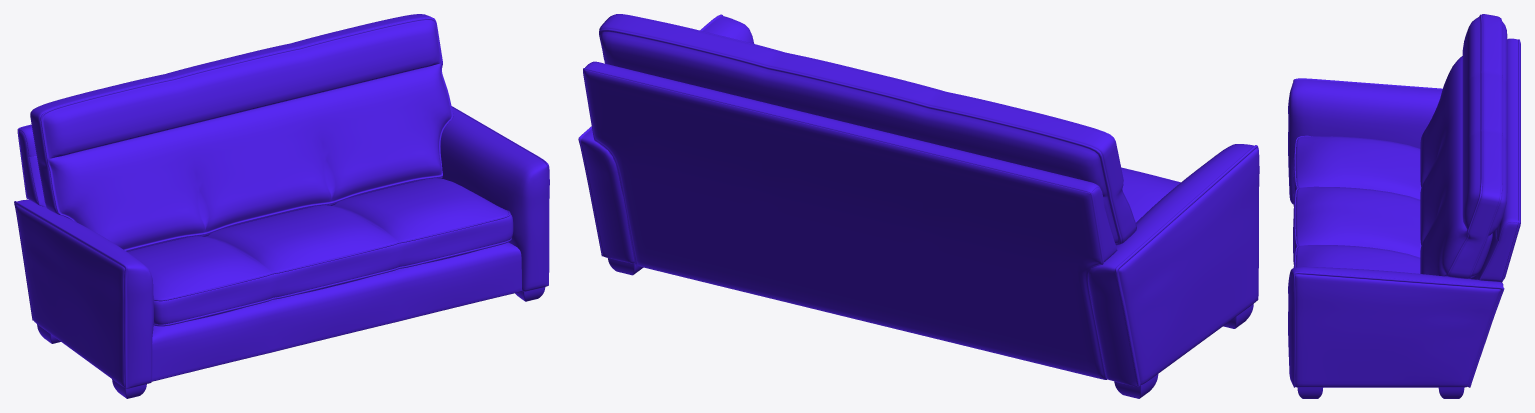
The model's file is Armchair_Long.fbx.
3 renders of one model, left to right at view 1: azimuth 30°, elevation 25°; view 2: azimuth 150°, elevation 25°; view 3: azimuth 270°, elevation 25°, orthographic. The views are drawn at different scales.
Visible parts, largest first — view 1: Object002; view 2: Object002; view 3: Object002.
Boxes of the visible parts, left/top/right/bottom form: Object002: left=14, top=14, right=549, bottom=398; Object002: left=578, top=14, right=1259, bottom=398; Object002: left=1288, top=14, right=1520, bottom=398.
Bounding box in the file's own units: 208 × 100 × 103.
